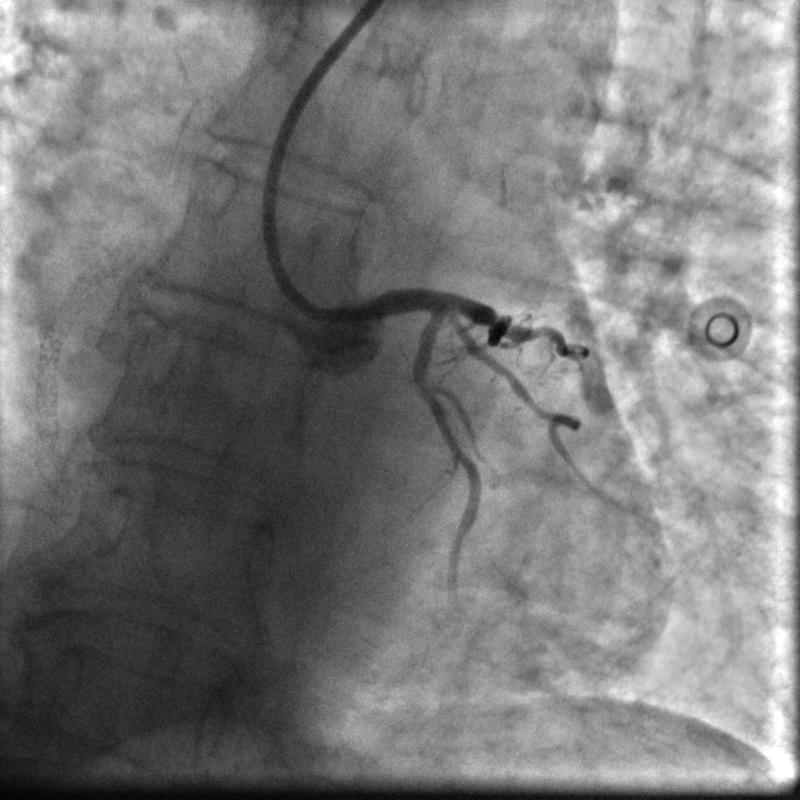Stenosis: (411, 373, 441, 399)
